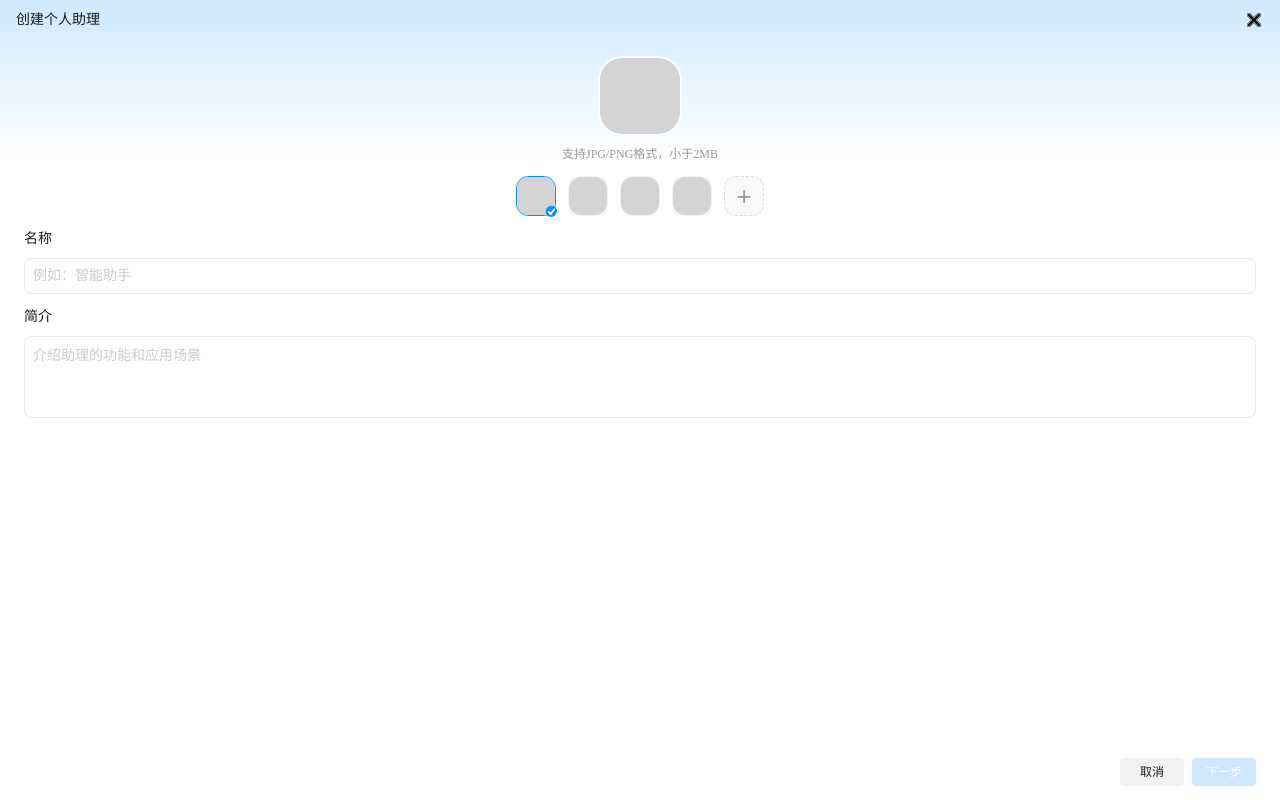
Test: StepBasicInfo › disables next and highlights when name or description length is out of range
This screenshot has width=1280, height=800.
Type "助" into the field labelled "名称". click: (640, 276)
box: [24,258,1256,294]
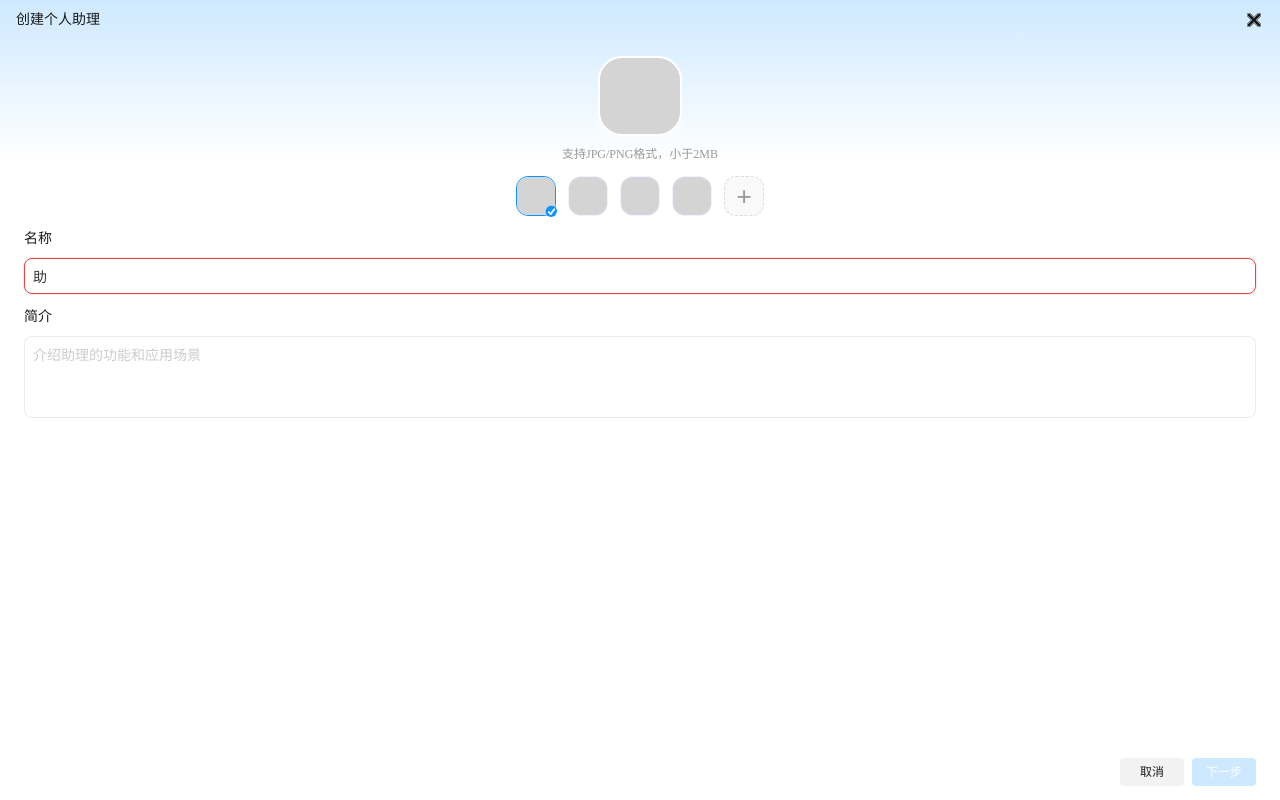
Type "介绍内容" into the text box labelled "简介". click: (640, 377)
box: [24,336,1256,418]
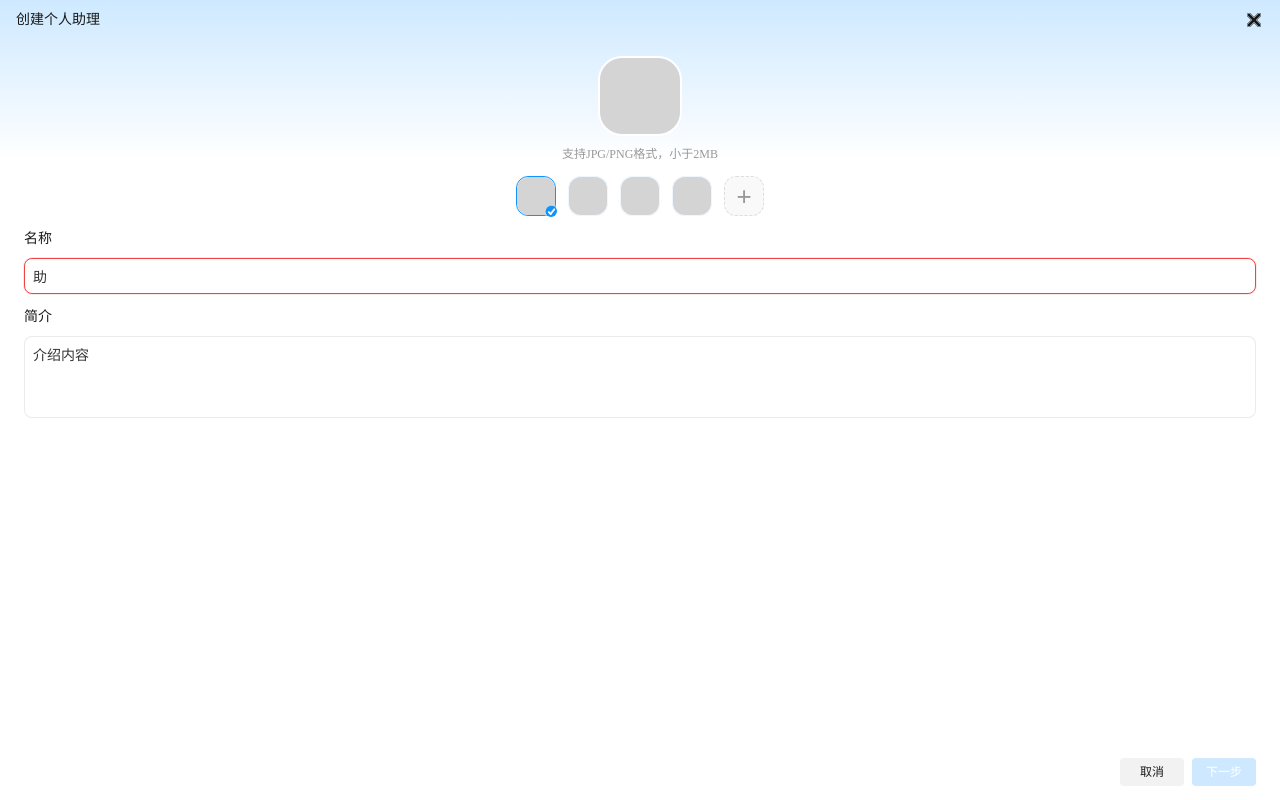
Expected: the button "下一步" is disabled, [1192,758,1256,786]
Now the field labelled "名称" has class "is-invalid"
Replace the text in the field labelled "名称" with "智能助手". click: (640, 276)
box: [24,258,1256,294]
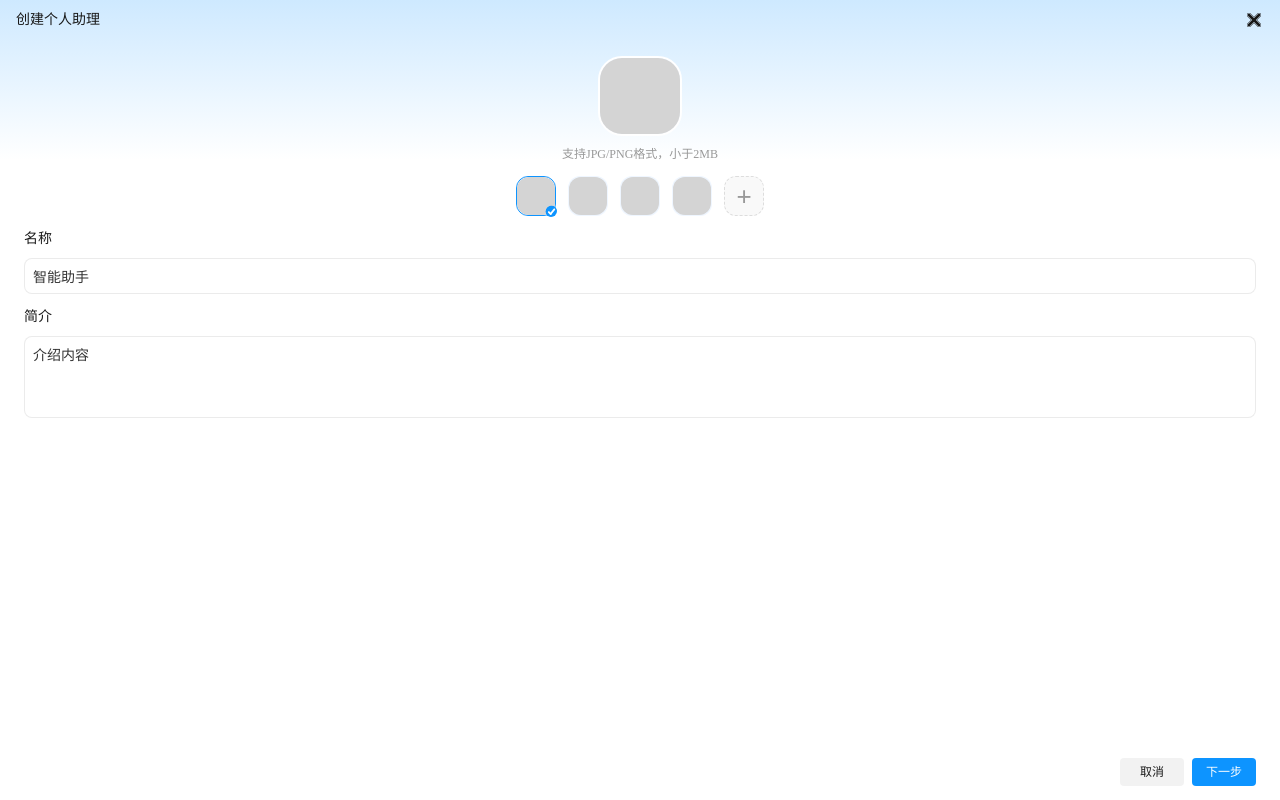
Replace the text in the text box labelled "简介" with "介". click: (640, 377)
box: [24,336,1256,418]
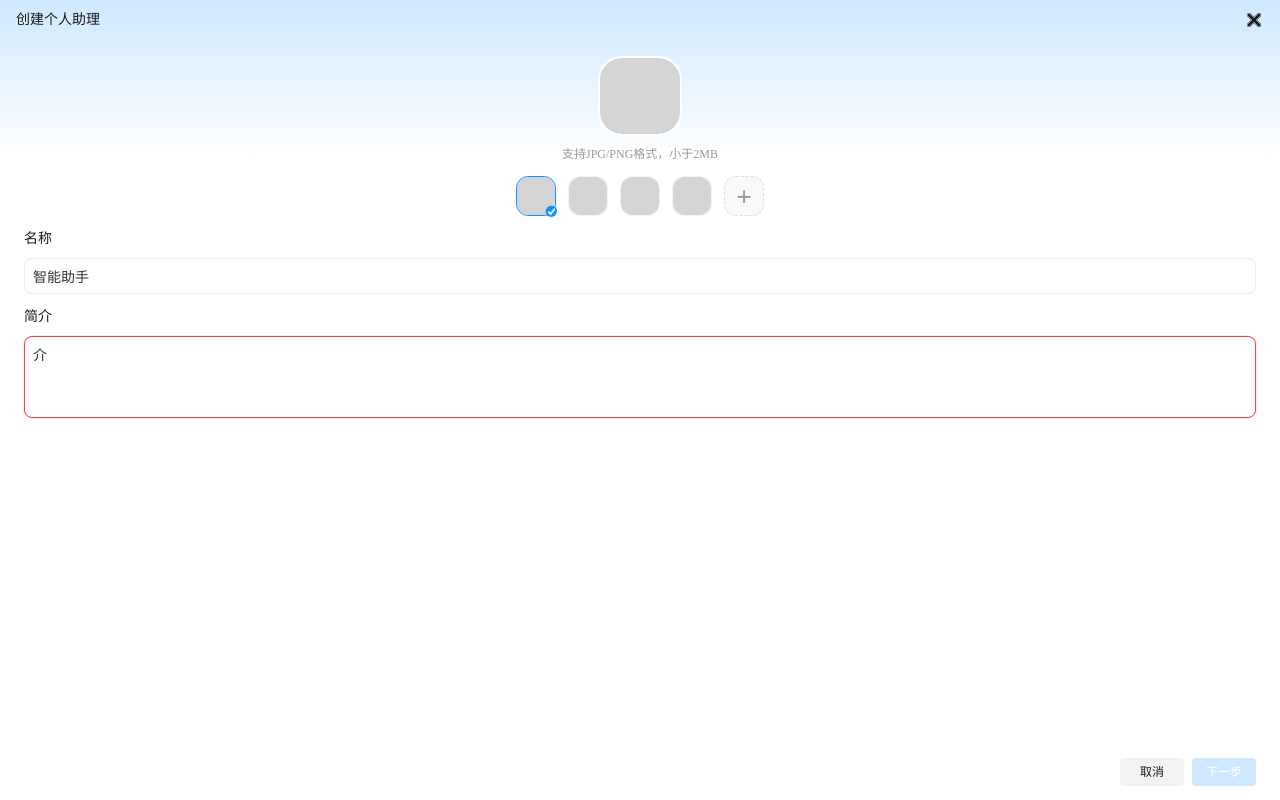
Now the button "下一步" is disabled, box [1192,758,1256,786]
Replace the text in the text box labelled "简介" with "介绍内容，支持中英文标点。". click: (640, 377)
box: [24,336,1256,418]
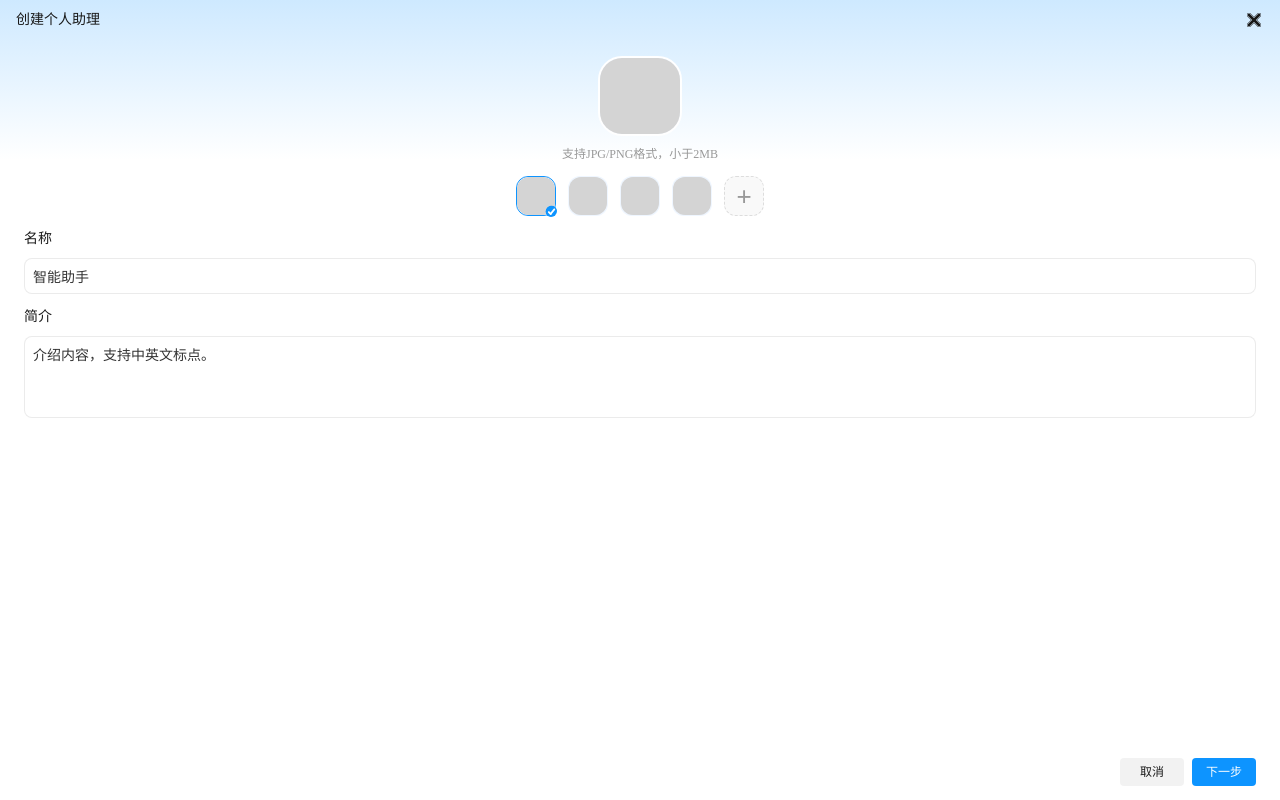
Now the button "下一步" is enabled, box [1192,758,1256,786]
